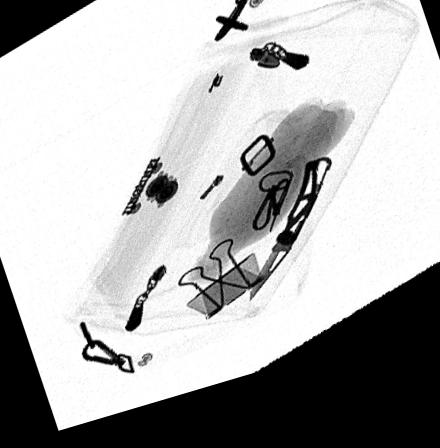Knife: (249, 174, 332, 318)
